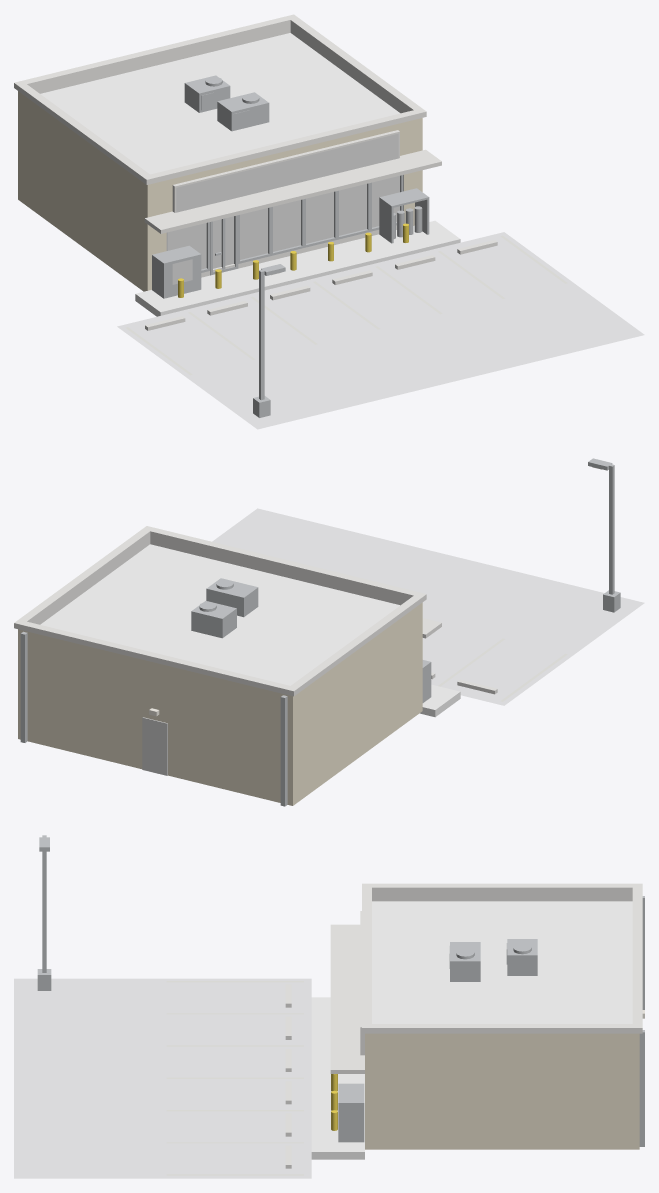
File: retail_store44.glb
3 renders of one model, top to bottom at view 1: azimuth 30°, elevation 25°; view 2: azimuth 150°, elevation 25°; view 3: azimuth 270°, elevation 25°, orthographic. The views are drawn at different scales.
Parts seen in each view (by area): view 1: retail_store44_Asphalt, retail_store44_Roof, retail_store44_Trim, retail_store44_Walls2, retail_store44_Details, retail_store44_Brand, retail_store44_Site, retail_store44_WindowsLit, retail_store44_Walls, retail_store44_Frames, retail_store44_Paint, retail_store44_Accent; view 2: retail_store44_Walls2, retail_store44_Asphalt, retail_store44_Roof, retail_store44_Trim, retail_store44_Details, retail_store44_Doors, retail_store44_Site; view 3: retail_store44_Asphalt, retail_store44_Walls2, retail_store44_Roof, retail_store44_Trim, retail_store44_Details, retail_store44_Site, retail_store44_Paint.
Boxes of the visible parts, x1,y1,x2,y2 form: retail_store44_Asphalt: (117, 232, 644, 429); retail_store44_Roof: (40, 33, 400, 174); retail_store44_Trim: (14, 14, 497, 330); retail_store44_Walls2: (18, 91, 147, 291); retail_store44_Details: (152, 75, 429, 417); retail_store44_Brand: (172, 133, 398, 284); retail_store44_Site: (135, 220, 460, 316); retail_store44_WindowsLit: (167, 176, 399, 269); retail_store44_Walls: (147, 118, 422, 290); retail_store44_Frames: (166, 175, 403, 275); retail_store44_Paint: (126, 235, 567, 375); retail_store44_Accent: (178, 223, 408, 297); retail_store44_Walls2: (18, 602, 422, 805); retail_store44_Asphalt: (212, 508, 644, 705); retail_store44_Roof: (40, 544, 399, 685); retail_store44_Trim: (14, 526, 497, 696); retail_store44_Details: (20, 458, 620, 806); retail_store44_Doors: (142, 717, 167, 775); retail_store44_Site: (420, 684, 460, 717); retail_store44_Asphalt: (14, 978, 311, 1178); retail_store44_Walls2: (365, 1033, 639, 1149); retail_store44_Roof: (372, 901, 632, 1023); retail_store44_Trim: (285, 883, 642, 1168); retail_store44_Details: (37, 835, 644, 1146); retail_store44_Site: (311, 997, 364, 1159); retail_store44_Paint: (166, 981, 303, 1175).
Size of the model in its own units: 62 by 22.5 by 82.7.
